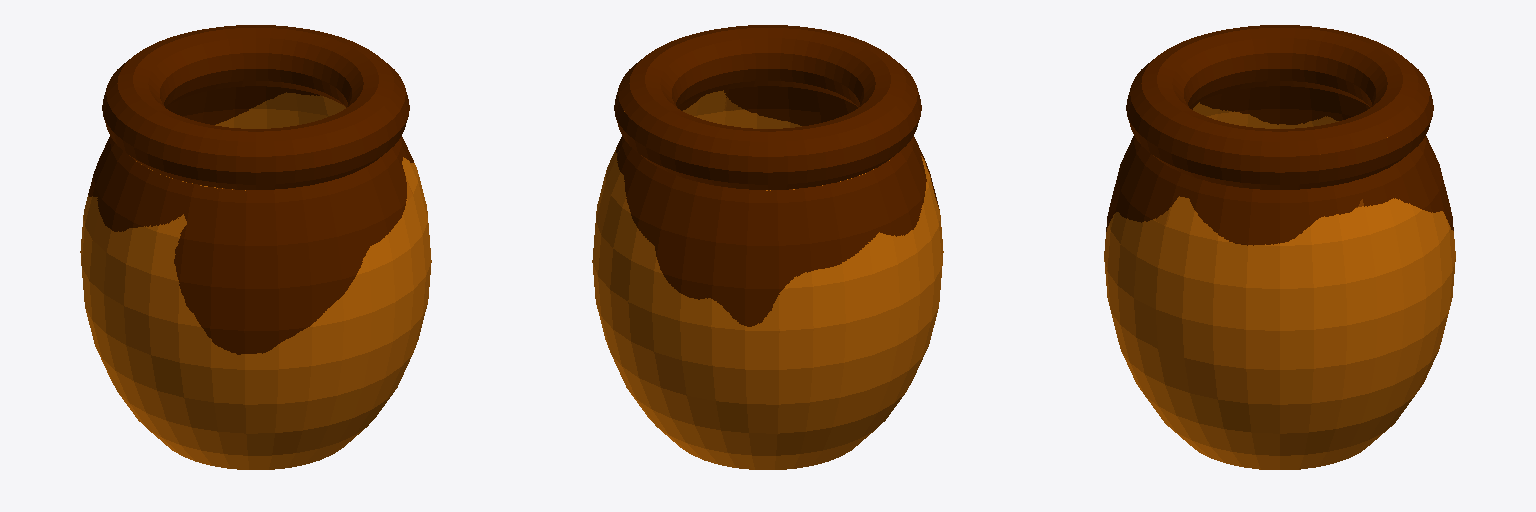
3 views of the same model, side by side, from view 1: azimuth 30°, elevation 25°; view 2: azimuth 150°, elevation 25°; view 3: azimuth 270°, elevation 25° (orthographic).
Parts seen in each view (by area): view 1: 球; view 2: 球; view 3: 球.
Boxes of the visible parts, x1,y1,x2,y2 form: 球: [80, 25, 431, 469]; 球: [592, 25, 943, 469]; 球: [1104, 25, 1455, 469].
Bounding box in the file's own units: 2 × 2.21 × 2.
1 materials, 1 textured.